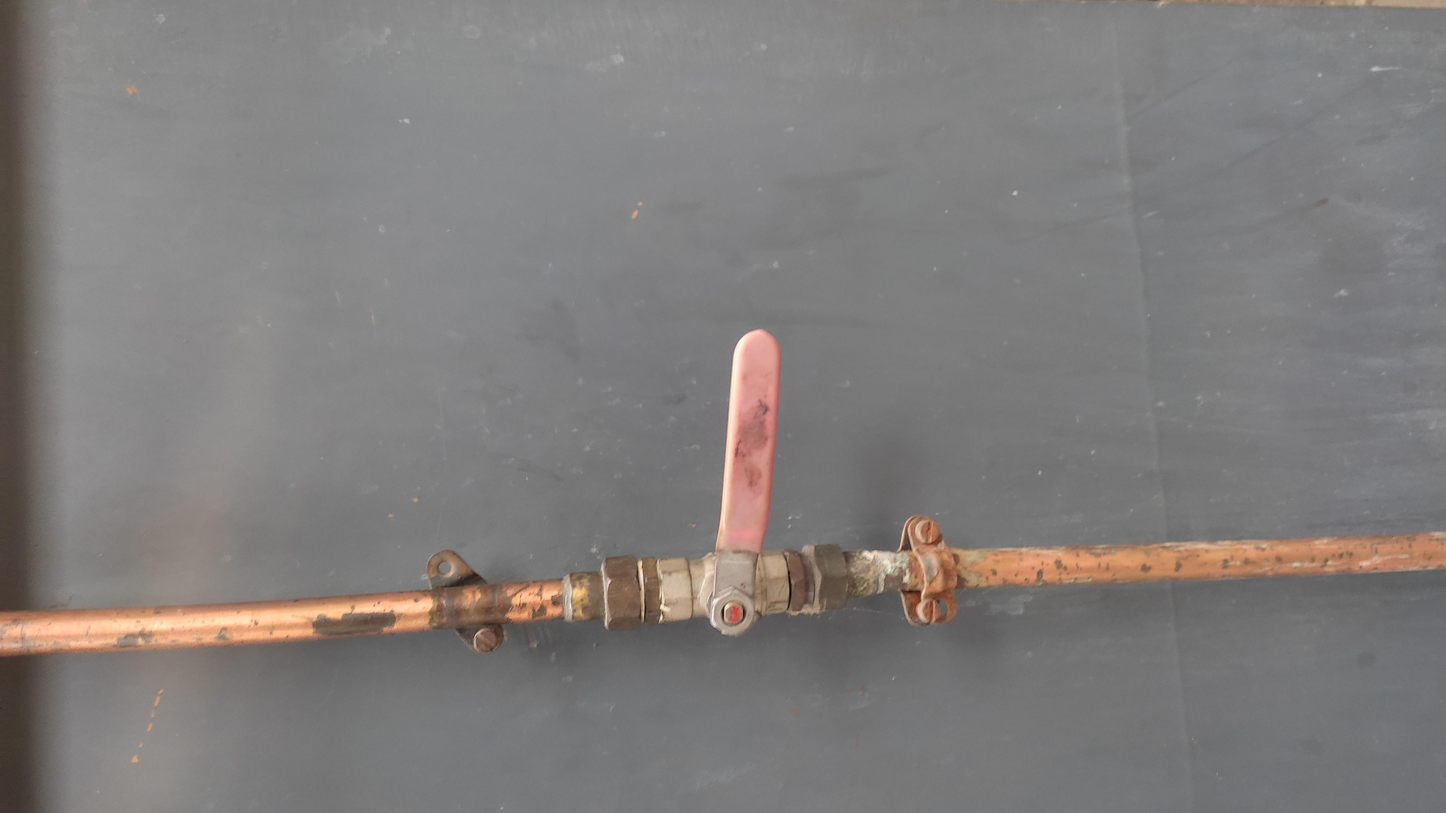closed valve: (659, 324, 806, 641)
